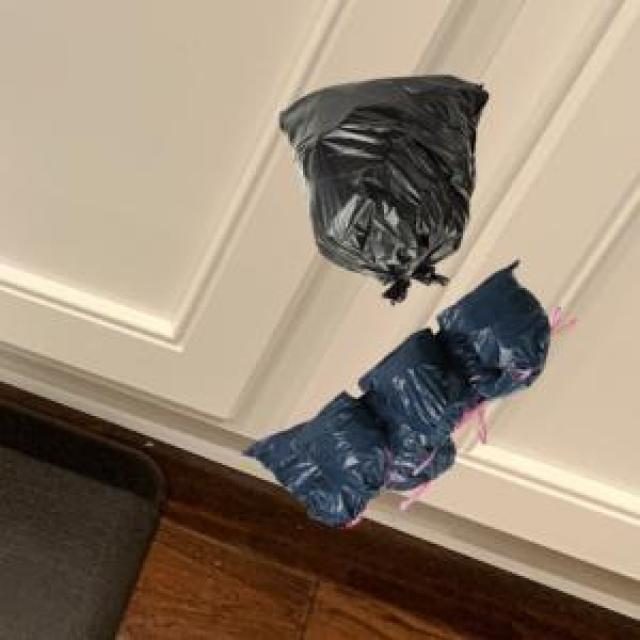Trashbag: (276, 72, 491, 284), (246, 398, 383, 532), (444, 267, 554, 393), (360, 332, 464, 438)
